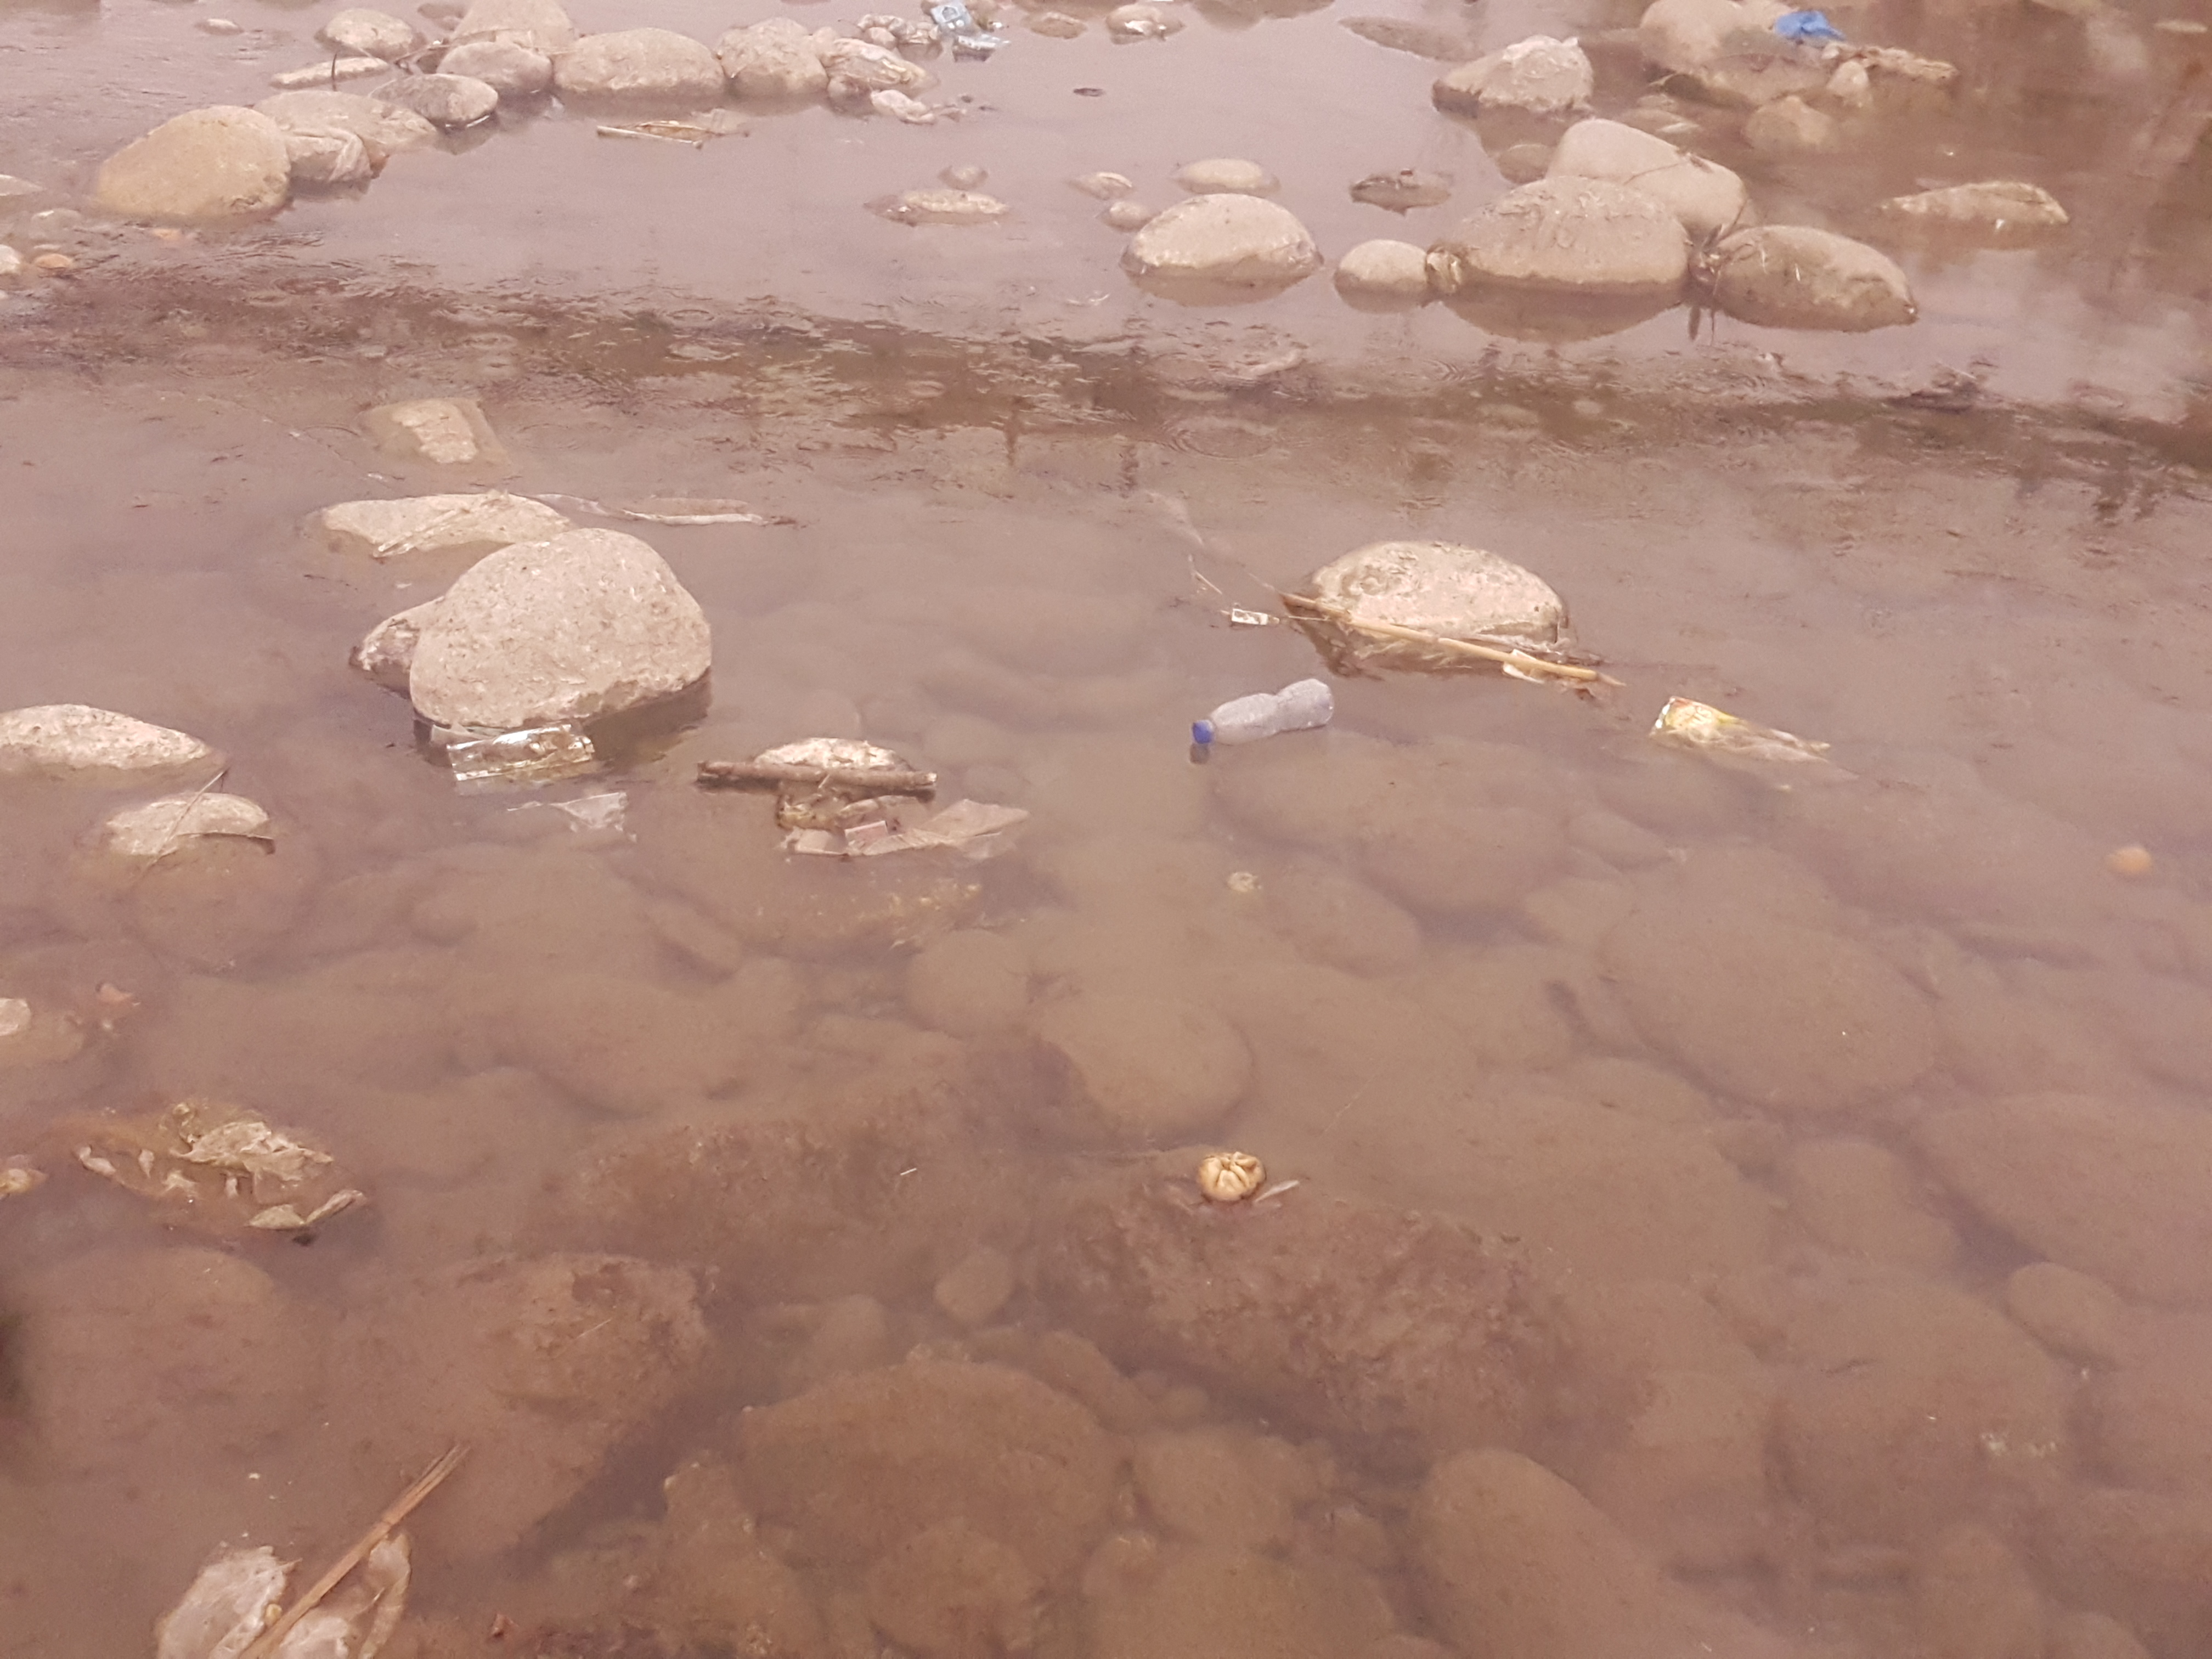Plastic Bottle: (1191, 680, 1332, 742), (869, 89, 934, 124)
